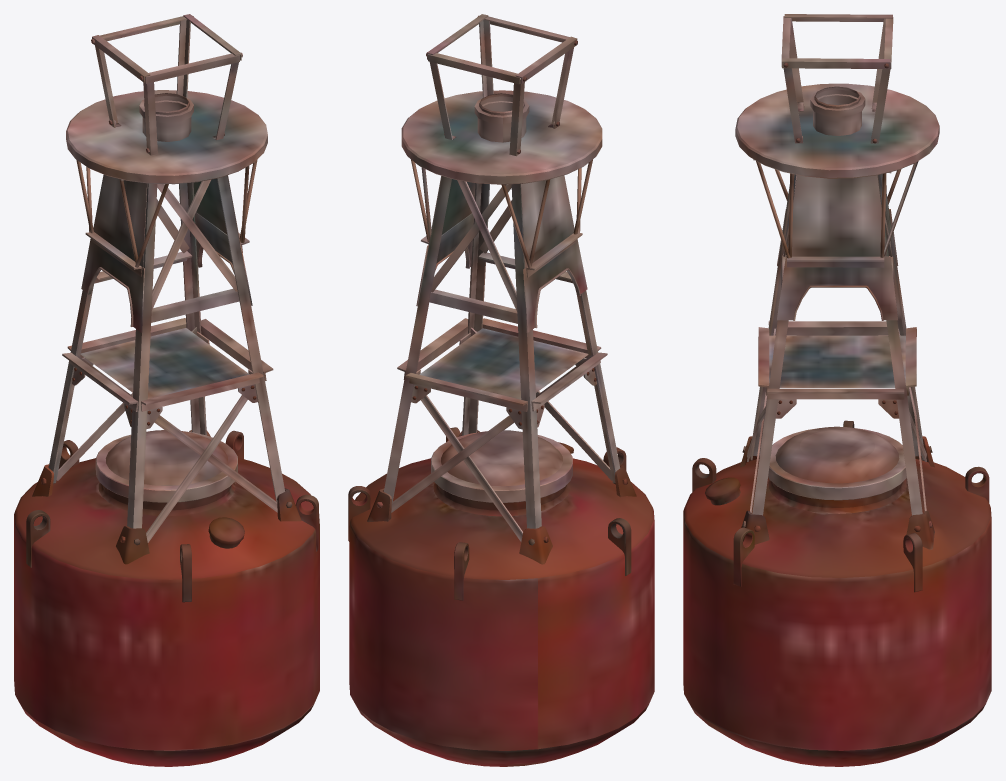
File: buoy.glb
The picture shows the model from 3 angles, left to right: view 1: azimuth 30°, elevation 25°; view 2: azimuth 150°, elevation 25°; view 3: azimuth 270°, elevation 25°; orthographic projection.
Parts seen in each view (by area): view 1: Body; view 2: Body; view 3: Body.
Part boxes in pixels (x1,y1,x2,y2): Body: (14,14,319,766); Body: (348,14,654,766); Body: (683,14,991,766).
Size of the model in its own units: 1.32 by 3.31 by 1.31.
Materials: 1 (1 with a texture image).
